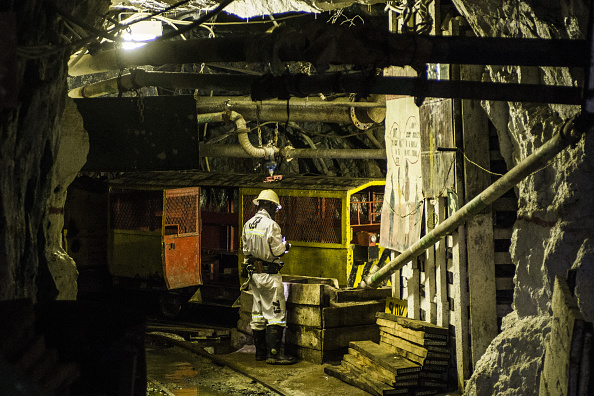em pe: (236, 182, 294, 348)
